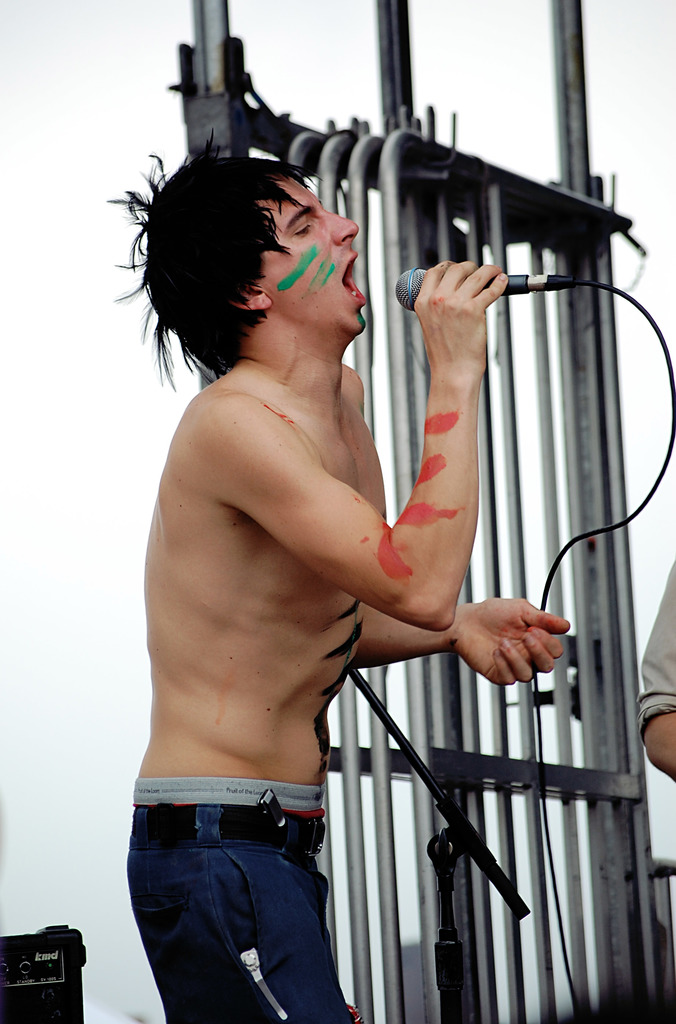Person: (635, 559, 676, 782)
